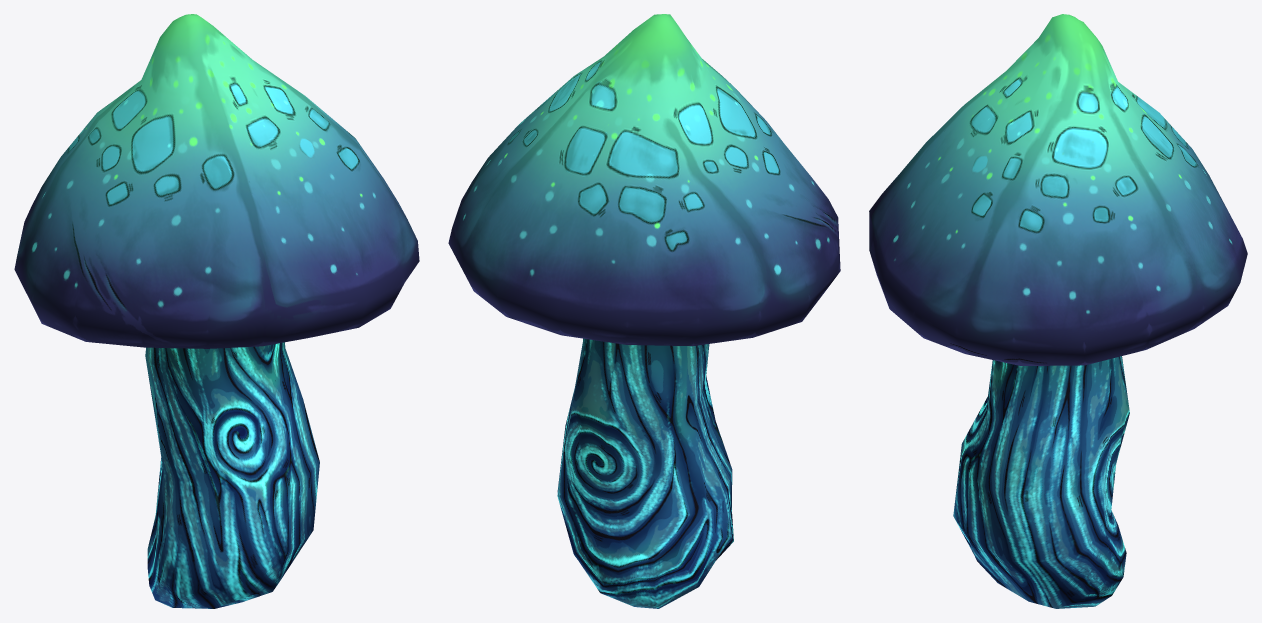
File: stylized_mushroom_4.glb
3 renders of one model, left to right at view 1: azimuth 30°, elevation 25°; view 2: azimuth 150°, elevation 25°; view 3: azimuth 270°, elevation 25°, orthographic. The views are drawn at different scales.
Visible parts, largest first — view 1: Retopo_grzyb4.002; view 2: Retopo_grzyb4.002; view 3: Retopo_grzyb4.002.
Part boxes in pixels (left/top/right/bottom): Retopo_grzyb4.002: left=14, top=14, right=419, bottom=608; Retopo_grzyb4.002: left=448, top=14, right=840, bottom=608; Retopo_grzyb4.002: left=869, top=14, right=1247, bottom=608.
Size of the model in its own units: 0.2749 by 0.4423 by 0.2637.
1 material, 1 textured.
